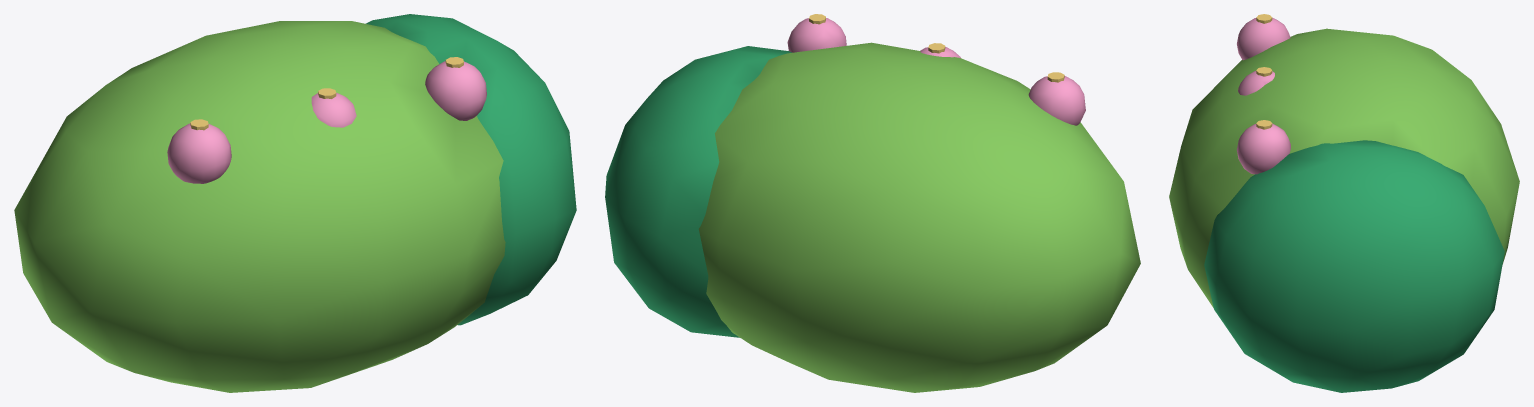
File: shrub-low.glb
3 renders of one model, left to right at view 1: azimuth 30°, elevation 25°; view 2: azimuth 150°, elevation 25°; view 3: azimuth 270°, elevation 25°, orthographic. The views are drawn at different scales.
Visible parts, largest first — view 1: hedge, hedge lobe, bloom, flower heart; view 2: hedge, hedge lobe, bloom, flower heart; view 3: hedge lobe, hedge, bloom, flower heart.
Part boxes in pixels (x1,y1,x2,y2): hedge: [14, 21, 505, 392]; hedge lobe: [366, 14, 576, 325]; bloom: [167, 61, 486, 183]; flower heart: [190, 57, 463, 130]; hedge: [698, 42, 1140, 392]; hedge lobe: [605, 46, 791, 337]; bloom: [787, 18, 1085, 125]; flower heart: [809, 14, 1064, 82]; hedge lobe: [1204, 140, 1504, 392]; hedge: [1169, 28, 1519, 307]; bloom: [1237, 17, 1290, 174]; flower heart: [1256, 14, 1272, 129].
Size of the model in its own units: 1.02 by 0.6 by 0.6998.
